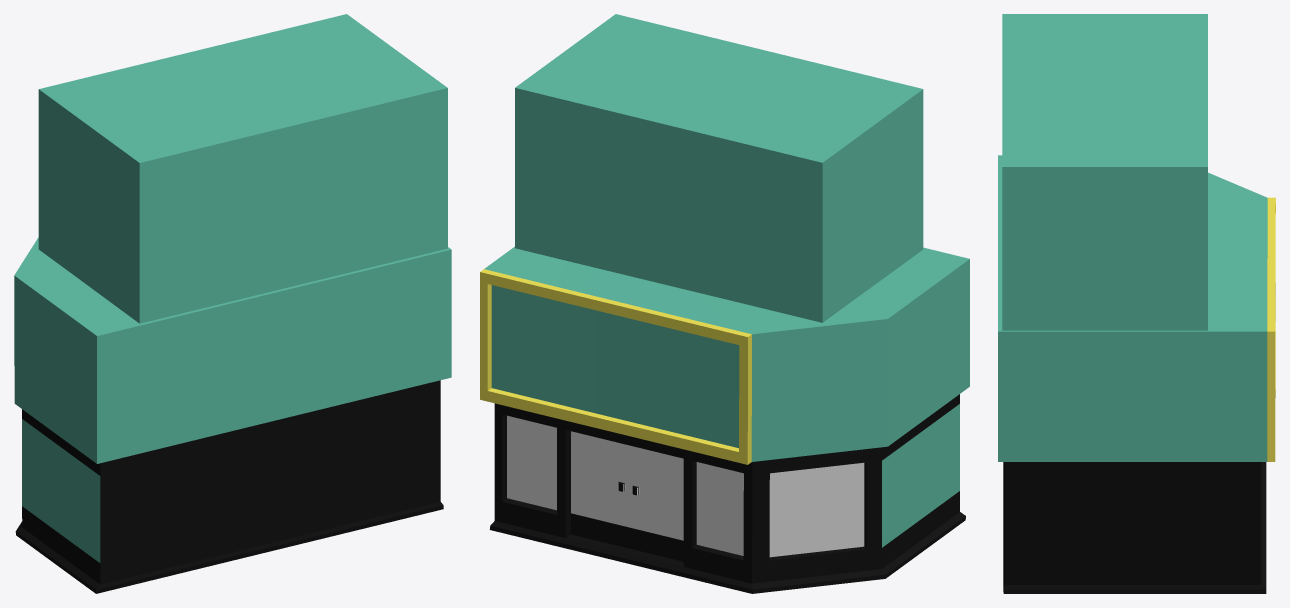
The model's file is ModelTeky.glb.
The picture shows the model from 3 angles, left to right: view 1: azimuth 30°, elevation 25°; view 2: azimuth 150°, elevation 25°; view 3: azimuth 270°, elevation 25°; orthographic projection.
Parts seen in each view (by area): view 1: Cube; view 2: Cube; view 3: Cube.
Boxes of the visible parts, x1,y1,x2,y2 form: Cube: (14, 14, 451, 593); Cube: (480, 14, 969, 593); Cube: (998, 14, 1275, 593).
Size of the model in its own units: 67.61 by 76.61 by 44.99.
